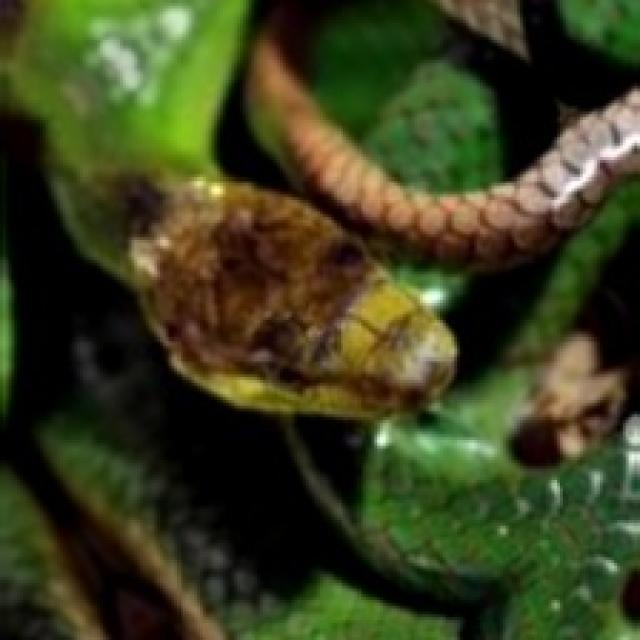red-tailed green ratsnake: (0, 0, 640, 640), (0, 0, 637, 414), (246, 37, 637, 266), (211, 54, 311, 203)
